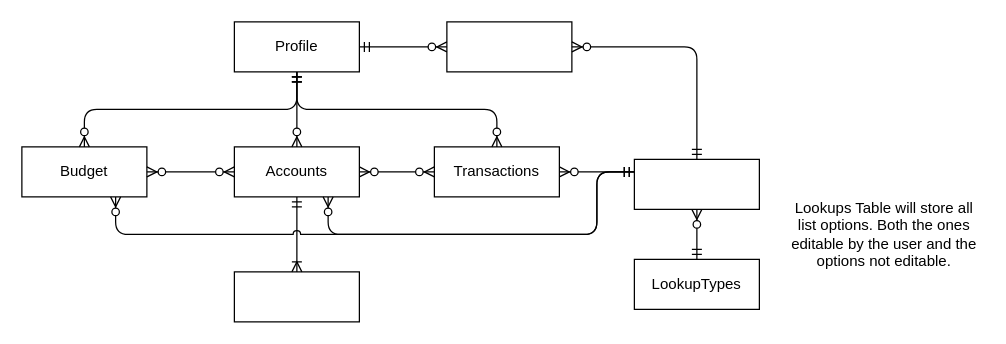
This 1006x344 diagram has some shape labels left out. The centre of each missing label's shape, as x and y in pixels:
"Account updates" belongs at point 296,296.
"Lookups" belongs at point 696,183.
"Profile Settings" belongs at point 509,46.
